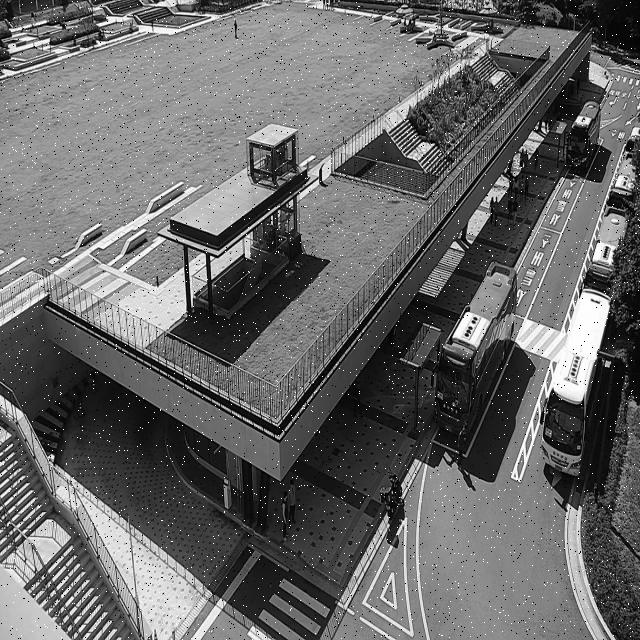queue: (416, 328, 440, 435)
